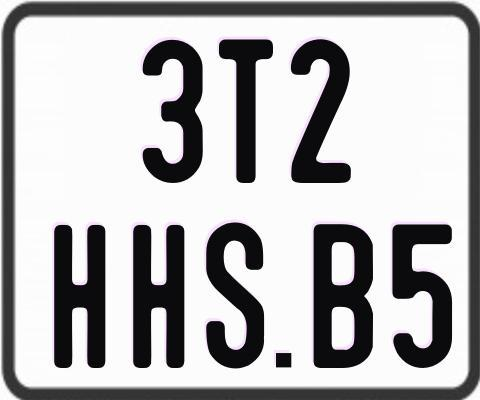2: (290, 36, 350, 186)
3: (142, 39, 203, 183)
5: (390, 222, 454, 370)
B: (312, 222, 371, 369)
H: (52, 222, 106, 371), (133, 224, 187, 369)
S: (204, 219, 266, 367)
T: (217, 39, 273, 185)
